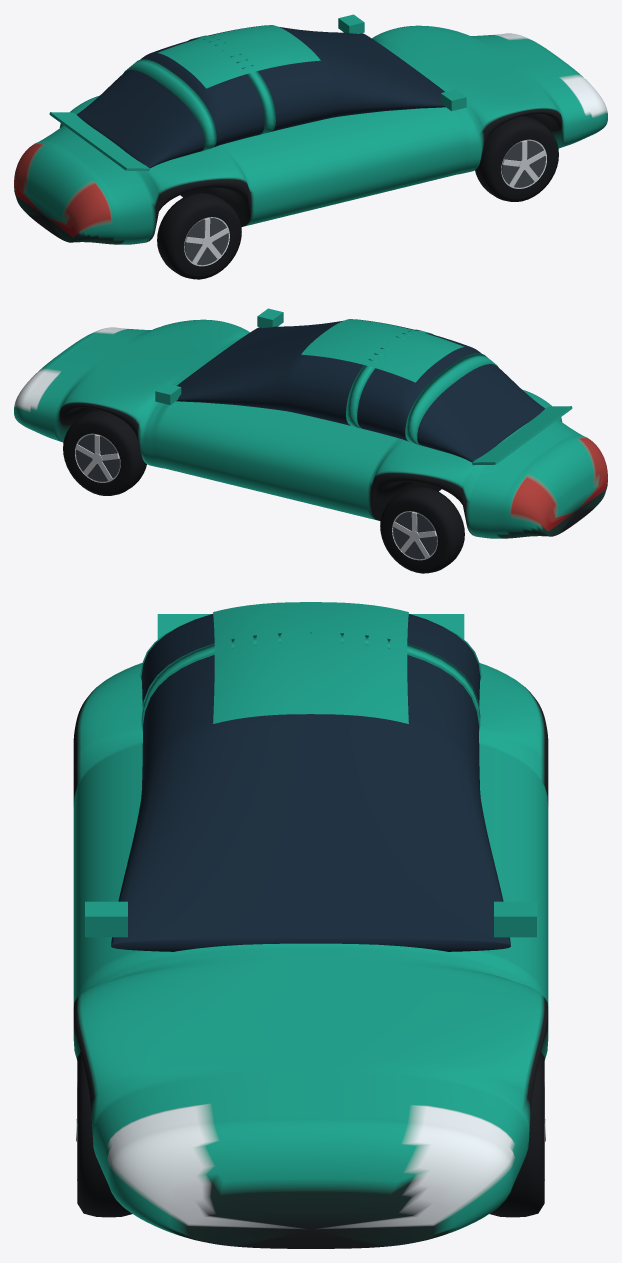
Rendered from EV01_OPT1.glb.
3 renders of one model, top to bottom at view 1: azimuth 30°, elevation 25°; view 2: azimuth 150°, elevation 25°; view 3: azimuth 270°, elevation 25°, orthographic. The views are drawn at different scales.
Parts seen in each view (by area): view 1: body, glass, wheel (×2), roof, pillar (×2), spoiler, object 7, object 6; view 2: body, glass, wheel (×2), roof, pillar (×2), spoiler, object 6, object 7; view 3: body, glass, roof, wheel (×2), pillar, object 6, object 7, spoiler.
Boxes of the visible parts, x1=… form: body: x1=14, y1=25, x2=607, y2=244; glass: x1=76, y1=25, x2=445, y2=168; wheel (×2): x1=157, y1=116, x2=558, y2=279; roof: x1=157, y1=25, x2=320, y2=88; pillar (×2): x1=124, y1=35, x2=275, y2=151; spoiler: x1=49, y1=112, x2=149, y2=171; object 7: x1=440, y1=89, x2=466, y2=111; object 6: x1=338, y1=14, x2=364, y2=33; body: x1=14, y1=319, x2=607, y2=538; glass: x1=176, y1=319, x2=545, y2=462; wheel (×2): x1=63, y1=410, x2=464, y2=573; roof: x1=301, y1=319, x2=464, y2=382; pillar (×2): x1=346, y1=329, x2=497, y2=445; spoiler: x1=472, y1=406, x2=572, y2=465; object 6: x1=155, y1=383, x2=181, y2=405; object 7: x1=257, y1=308, x2=283, y2=327; body: x1=73, y1=663, x2=548, y2=1248; glass: x1=111, y1=614, x2=510, y2=951; roof: x1=213, y1=602, x2=408, y2=723; wheel (×2): x1=76, y1=1052, x2=545, y2=1217; pillar: x1=141, y1=632, x2=480, y2=731; object 6: x1=494, y1=901, x2=536, y2=937; object 7: x1=85, y1=901, x2=127, y2=937; spoiler: x1=157, y1=614, x2=464, y2=639.
Bounding box in the file's own units: 4.8 × 1.49 × 1.88.
